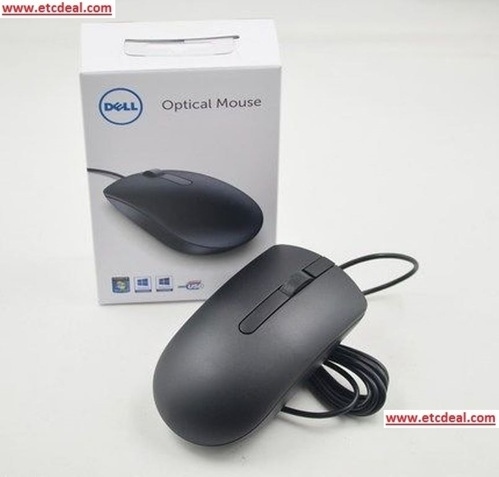dell-mouse-ms116: (154, 239, 423, 408)
